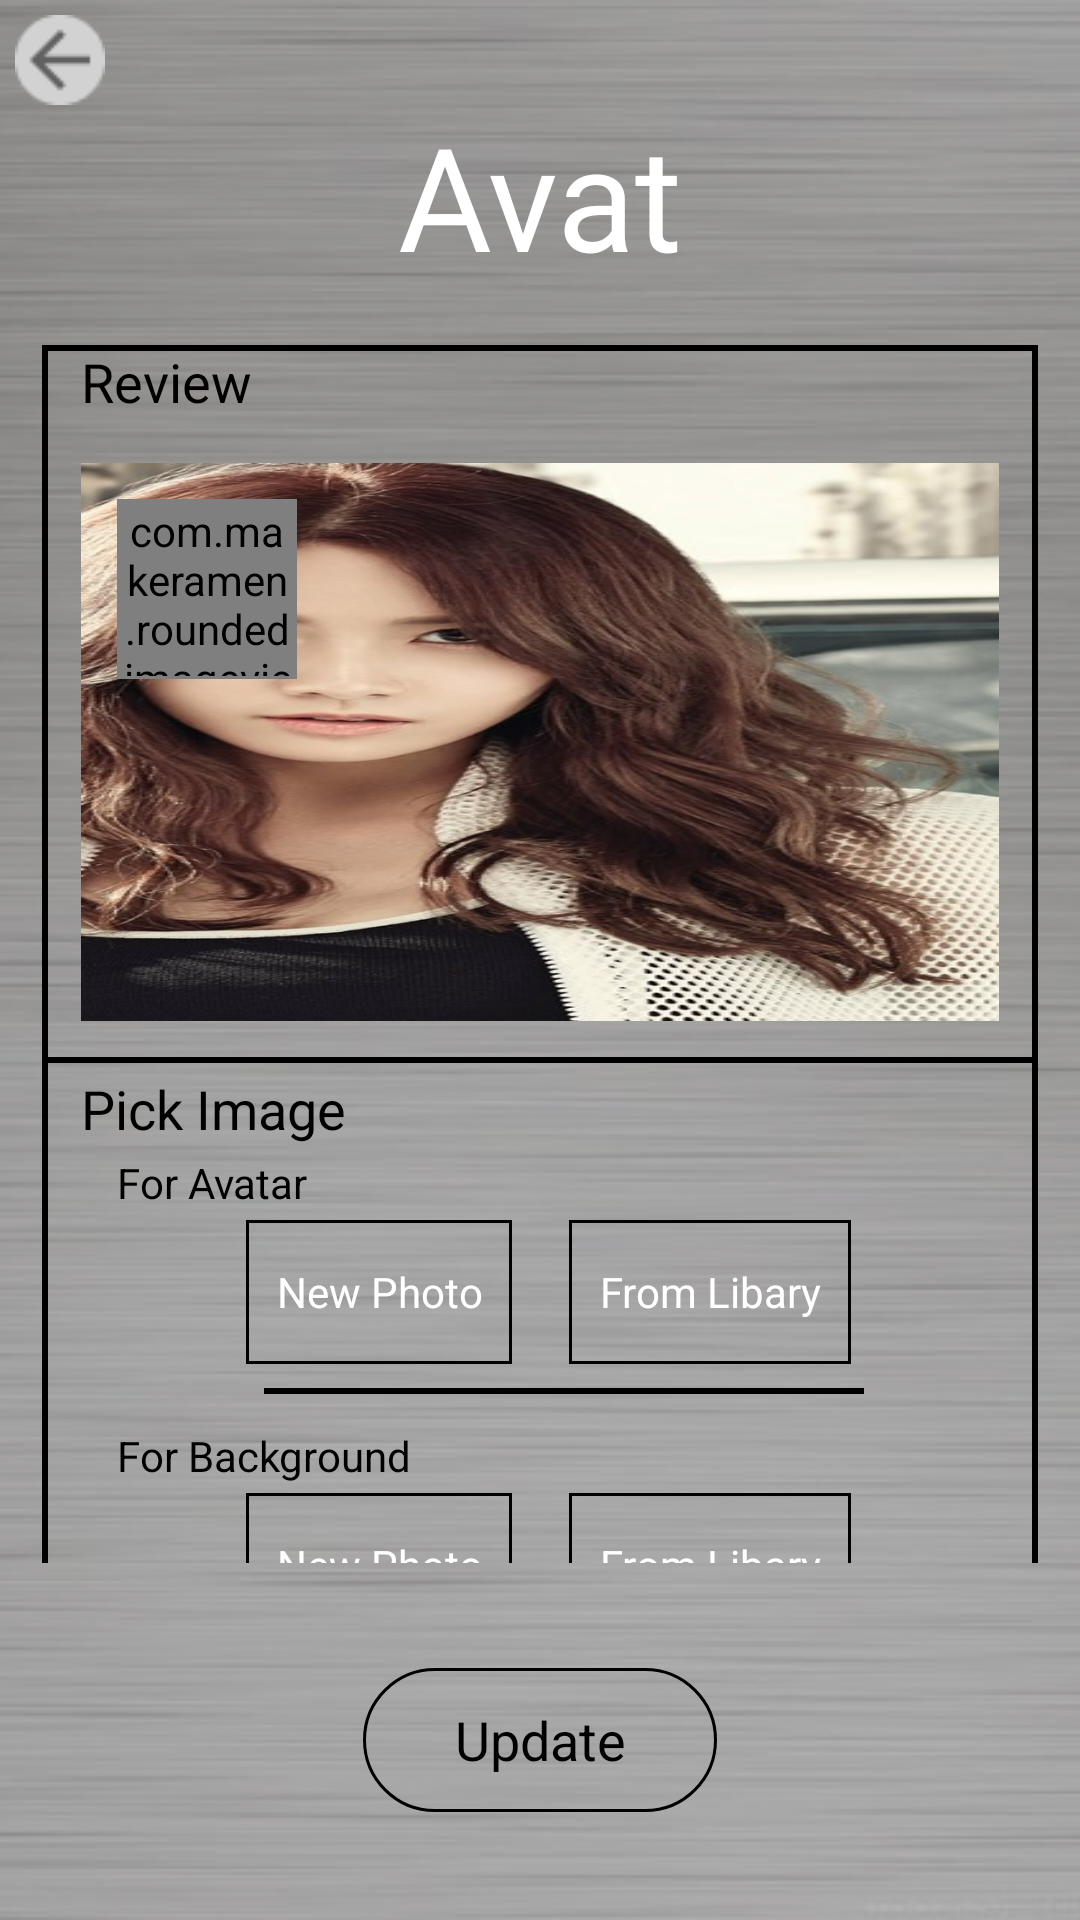

Icons on this 1080px×1920px Android screen, each with the point to tap as (x=x, y=y):
back: (x=60, y=60)
